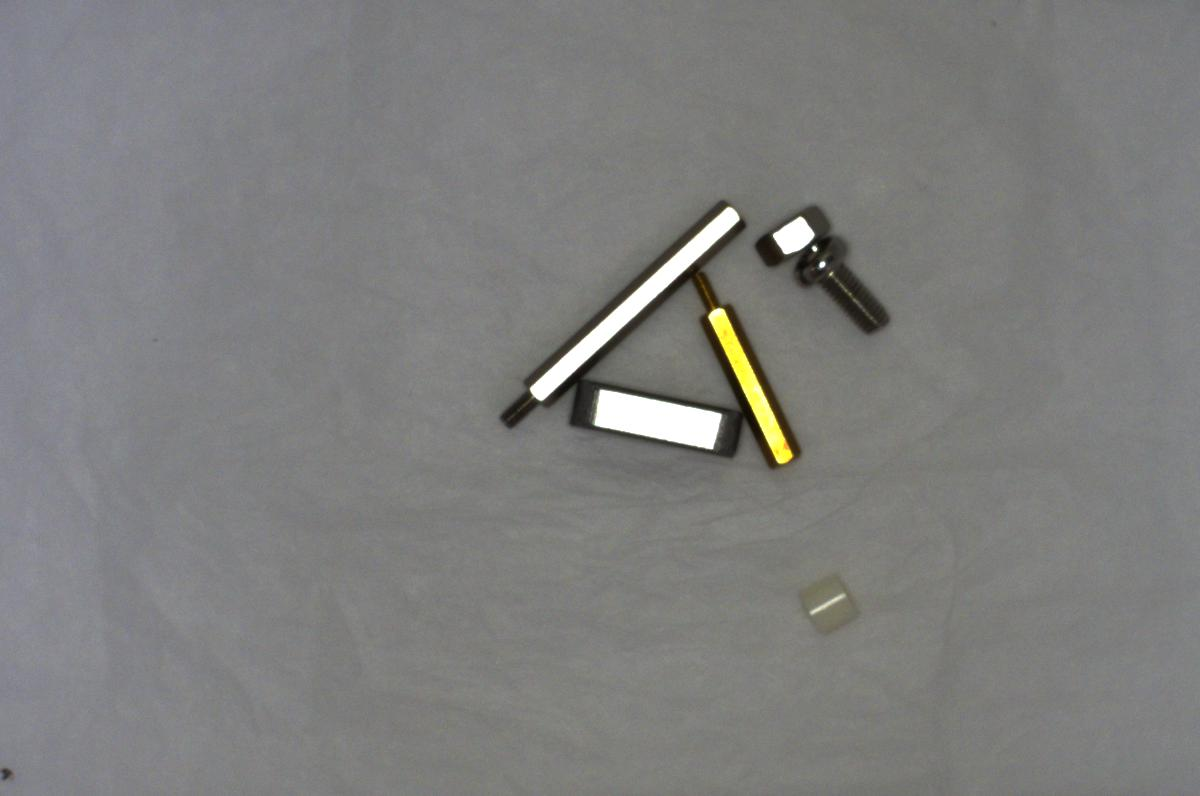Hexagon nut: (750, 199, 823, 267)
Hexagon pillar: (684, 267, 812, 473)
Hexagonal steel column: (484, 194, 747, 427)
Keybar: (558, 372, 752, 467)
Plastic cushion pillar: (794, 560, 862, 640)
Round head screw: (797, 233, 908, 345)
